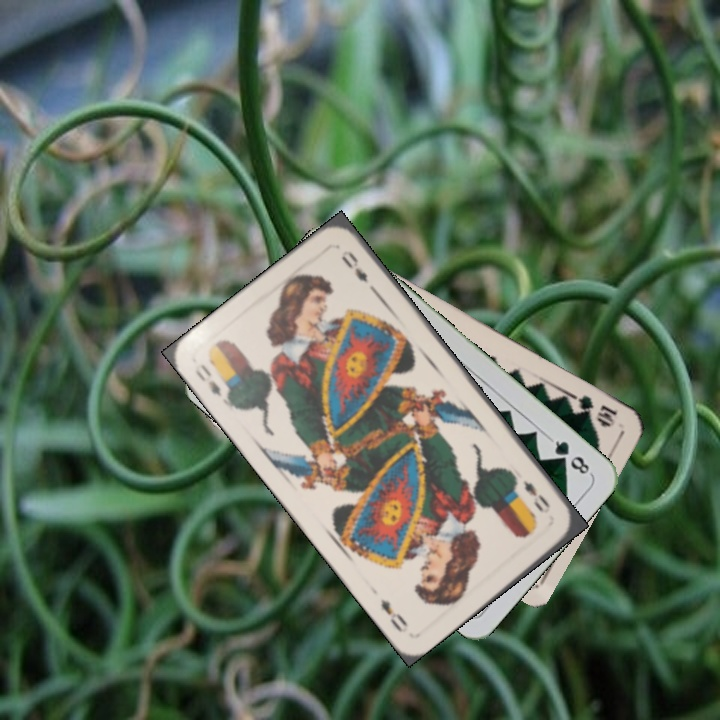EO: (518, 476, 553, 516), (191, 360, 225, 399)
G10: (568, 390, 620, 430)
G8: (545, 434, 594, 478)
